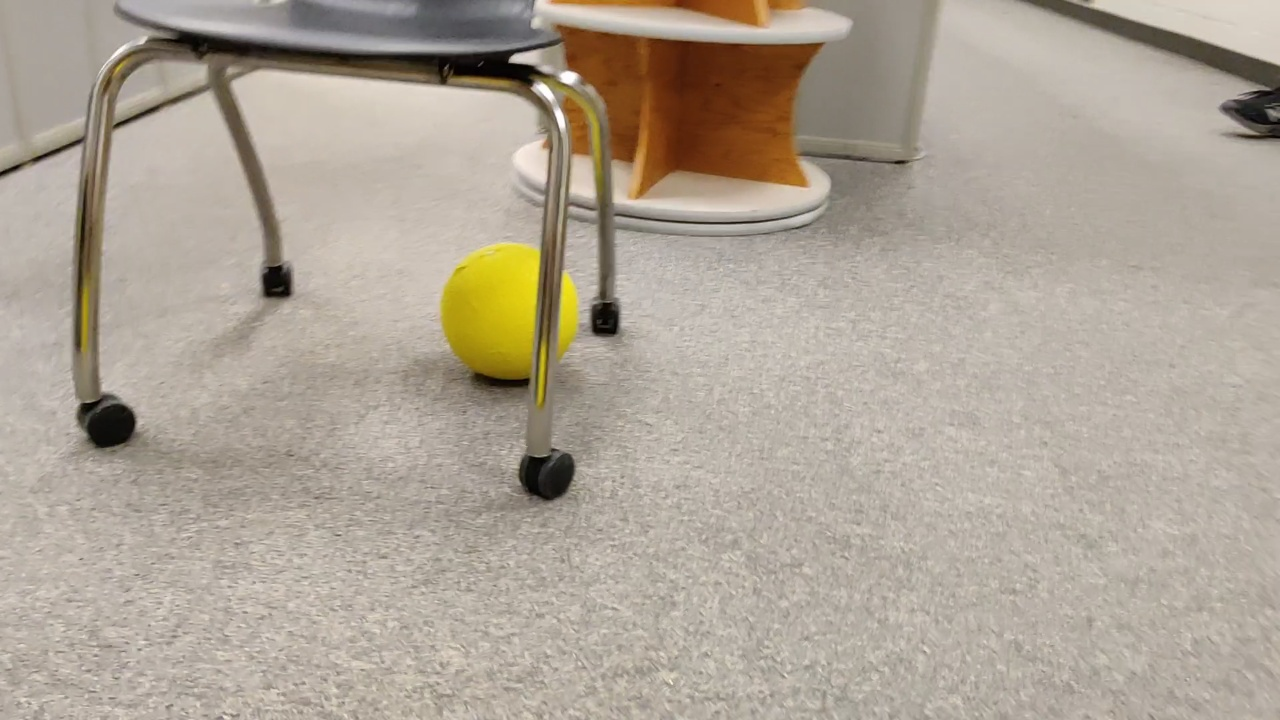Ball: (442, 245, 579, 376)
